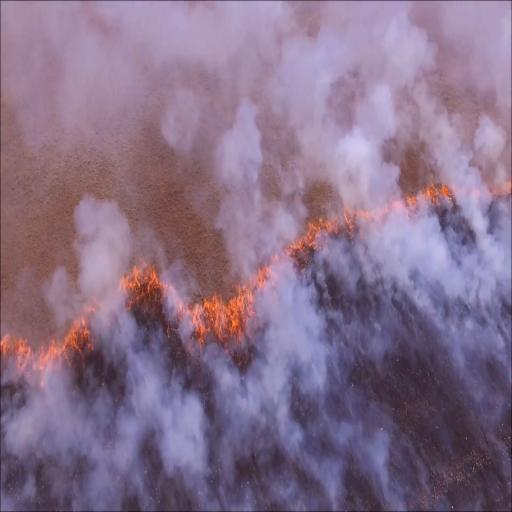fire: (190, 282, 254, 349), (5, 325, 64, 386)
smoke: (2, 2, 512, 374), (6, 374, 205, 512), (252, 251, 344, 512), (355, 424, 413, 512)
